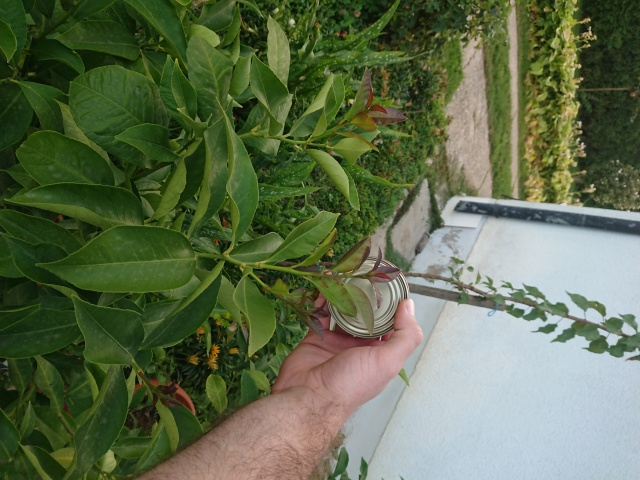Podravka Luncheon Meat 150g: (324, 252, 413, 341)
